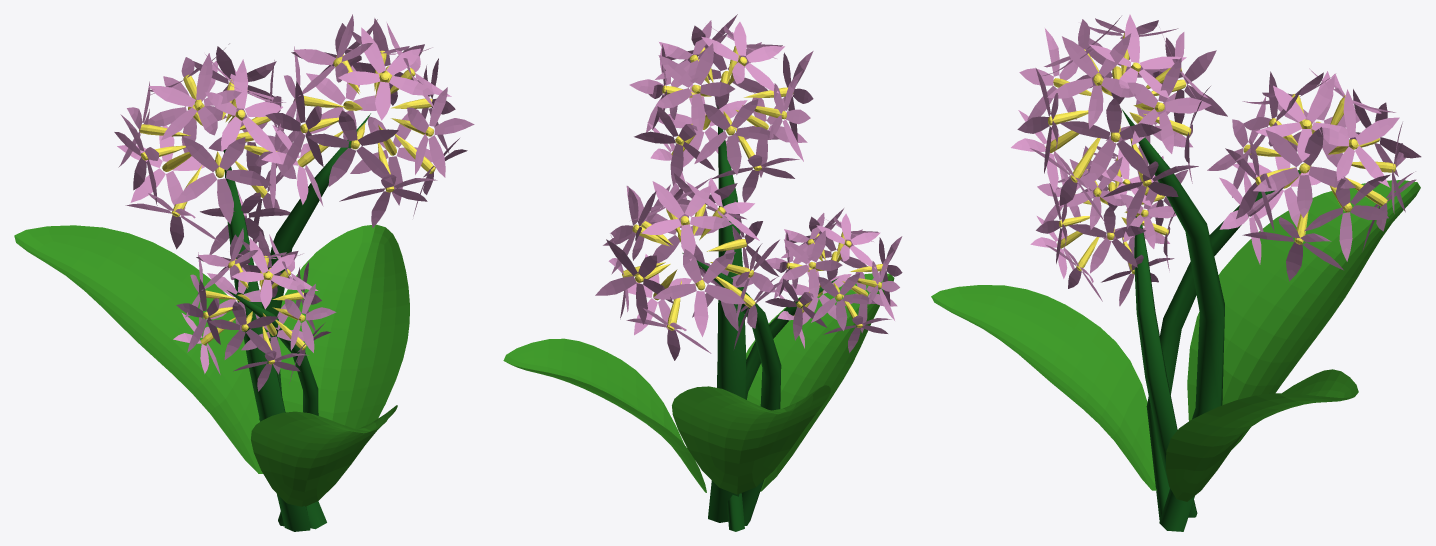
Rendered from flower 3.fbx.
3 renders of one model, left to right at view 1: azimuth 30°, elevation 25°; view 2: azimuth 150°, elevation 25°; view 3: azimuth 270°, elevation 25°, orthographic. The views are drawn at different scales.
Visible parts, largest first — view 1: Flower.030; view 2: Flower.030; view 3: Flower.030.
Part boxes in pixels (left/top/right/bottom): Flower.030: left=14, top=14, right=474, bottom=531; Flower.030: left=503, top=14, right=902, bottom=531; Flower.030: left=931, top=14, right=1421, bottom=531.
Bounding box in the file's own units: 1.76 × 2.52 × 2.14.
